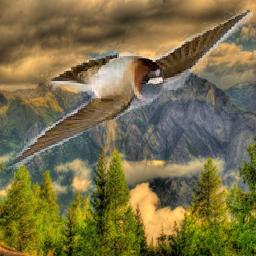Swallow: (3, 11, 253, 174)
